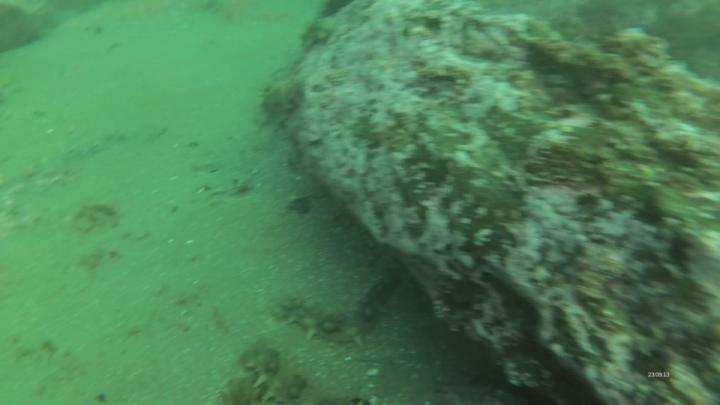holothurian: (242, 338, 328, 405), (278, 293, 376, 347), (362, 262, 406, 330), (259, 80, 304, 118), (299, 21, 339, 50)
